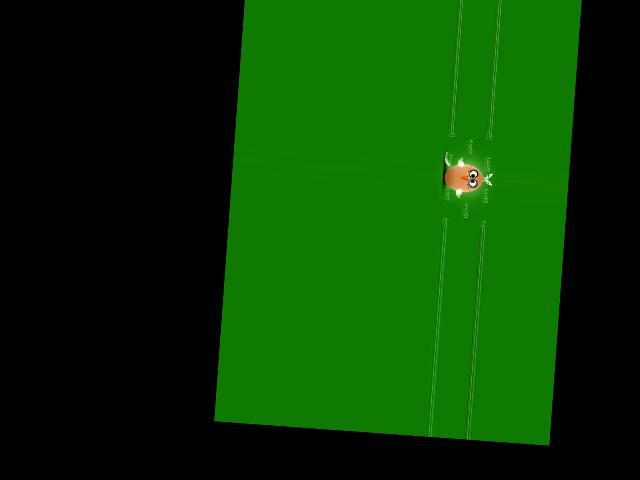egg: (442, 162, 483, 192)
